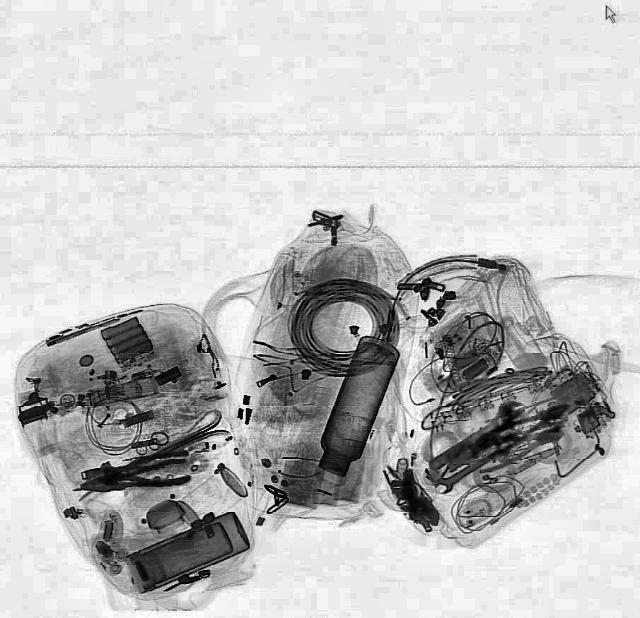Pliers: (76, 447, 194, 505), (476, 398, 574, 461)
Wrench: (422, 394, 532, 476), (432, 445, 506, 495)
